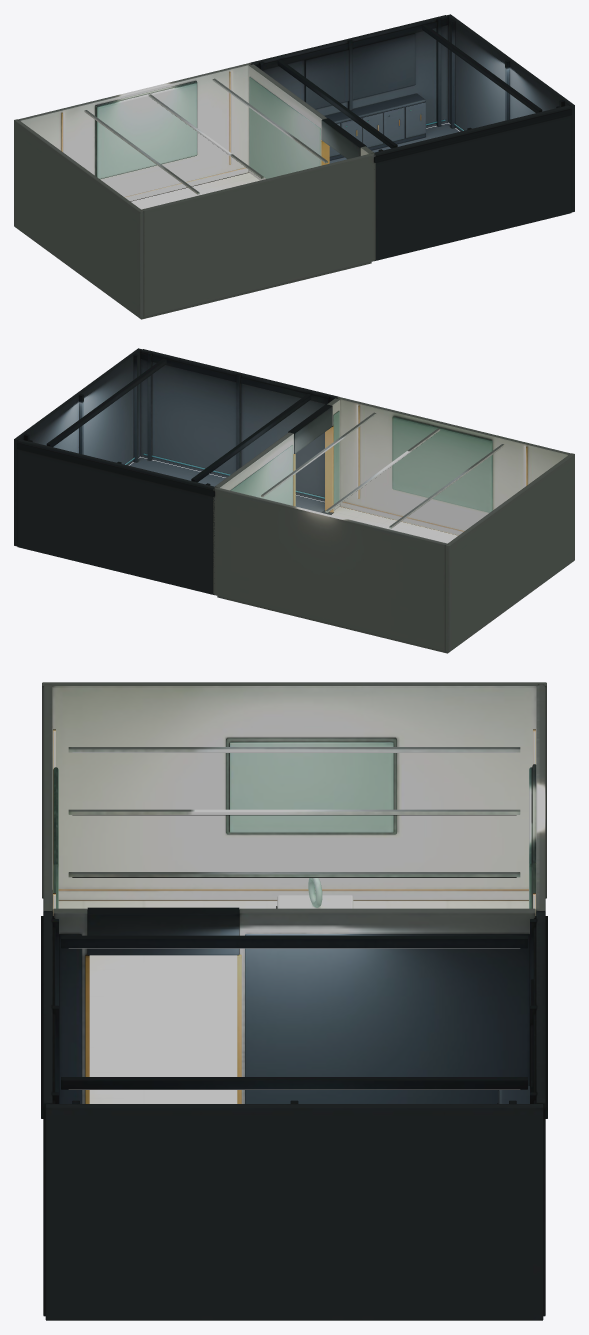
File: modern-gallery.glb
The picture shows the model from 3 angles, top to bottom: view 1: azimuth 30°, elevation 25°; view 2: azimuth 150°, elevation 25°; view 3: azimuth 270°, elevation 25°; orthographic projection. The views are drawn at different scales.
Visible parts, largest first — view 1: gallery-front-surface, lab-front-surface, gallery-back-surface, gallery-left-surface, lab-back-surface, lab-right-surface, gallery-right-surface, lab-fixed-surface, lab-ceiling-surface, gallery-floor, gallery-ceiling-surface, lab-equipment-cabinet (+1 smaller); view 2: gallery-back-surface, lab-back-surface, gallery-front-surface, lab-front-surface, gallery-left-surface, lab-right-surface, gallery-right-surface, lab-ceiling-surface, gallery-floor, gallery-ceiling-surface, lab-floor; view 3: lab-right-surface, gallery-left-surface, gallery-right-surface, gallery-floor, lab-ceiling-surface, gallery-ceiling-surface, lab-back-surface, lab-front-surface, gallery-back-surface, gallery-front-surface, gallery-plinth-1.
Part boxes in pixels (<box>): gallery-front-surface: <box>140,153,375,317</box>; lab-front-surface: <box>374,105,571,260</box>; gallery-back-surface: <box>17,62,252,200</box>; gallery-left-surface: <box>14,119,143,318</box>; lab-back-surface: <box>251,15,448,128</box>; lab-right-surface: <box>447,14,574,212</box>; gallery-right-surface: <box>248,64,373,180</box>; lab-fixed-surface: <box>329,102,425,156</box>; lab-ceiling-surface: <box>277,24,542,148</box>; gallery-floor: <box>130,172,371,319</box>; gallery-ceiling-surface: <box>84,78,327,194</box>; lab-equipment-cabinet: <box>325,93,425,160</box>; gallery-back-surface: <box>213,487,448,651</box>; lab-back-surface: <box>17,439,214,594</box>; gallery-front-surface: <box>336,397,571,534</box>; lab-front-surface: <box>140,349,338,501</box>; gallery-left-surface: <box>445,453,574,652</box>; lab-right-surface: <box>14,348,141,546</box>; gallery-right-surface: <box>215,398,340,512</box>; lab-ceiling-surface: <box>46,358,311,482</box>; gallery-floor: <box>217,506,458,653</box>; gallery-ceiling-surface: <box>261,412,504,528</box>; lab-floor: <box>129,457,324,512</box>; lab-right-surface: <box>45,1100,543,1320</box>; gallery-left-surface: <box>42,682,546,899</box>; gallery-right-surface: <box>53,907,535,1103</box>; gallery-floor: <box>58,900,528,1103</box>; lab-ceiling-surface: <box>61,935,527,1089</box>; gallery-ceiling-surface: <box>68,747,520,877</box>; lab-back-surface: <box>530,911,547,1316</box>; lab-front-surface: <box>41,911,58,1316</box>; gallery-back-surface: <box>529,684,545,915</box>; gallery-front-surface: <box>43,684,58,915</box>; gallery-plinth-1: <box>277,895,353,908</box>.
Size of the model in its own units: 13.26 by 3.21 by 6.68.
1 material, 1 textured.
